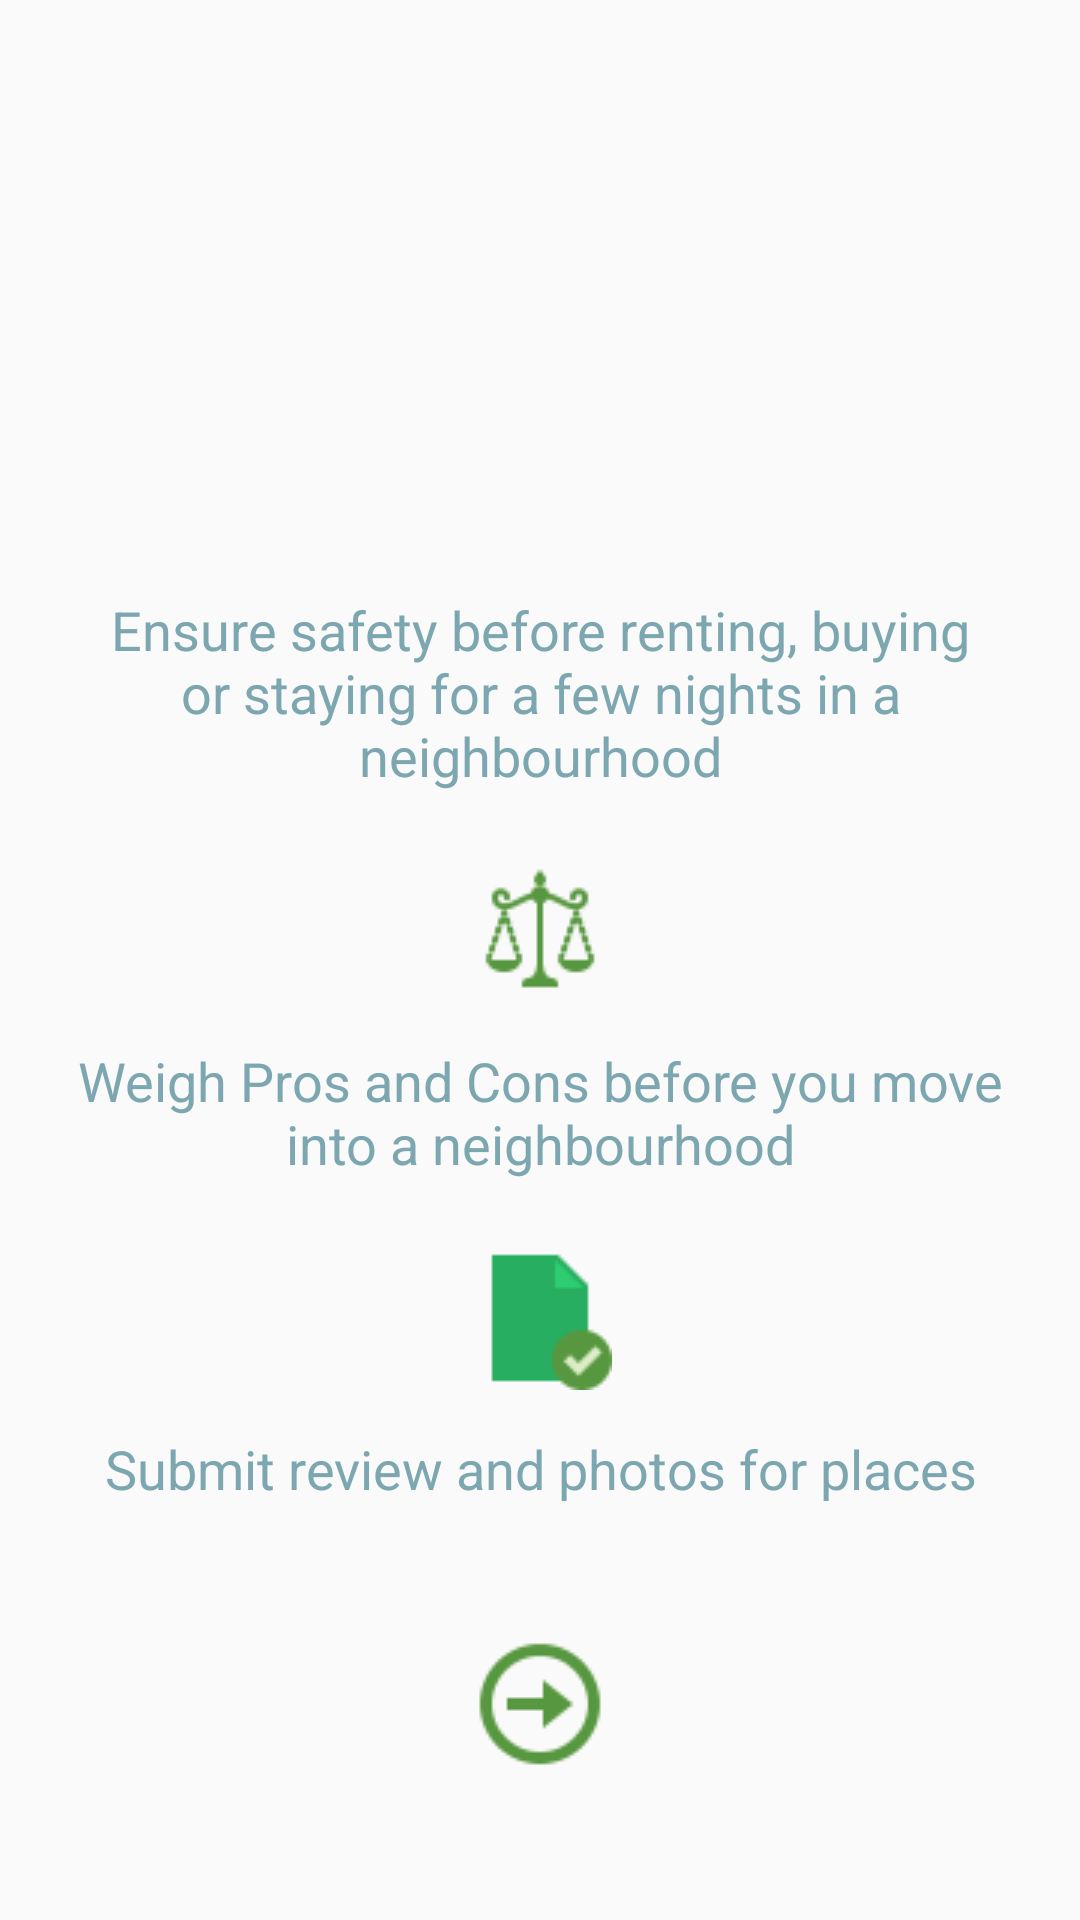

Icon click points for this 1080 × 1920 phone screenshot, format point (x, y):
arrow right: point (540, 1704)
